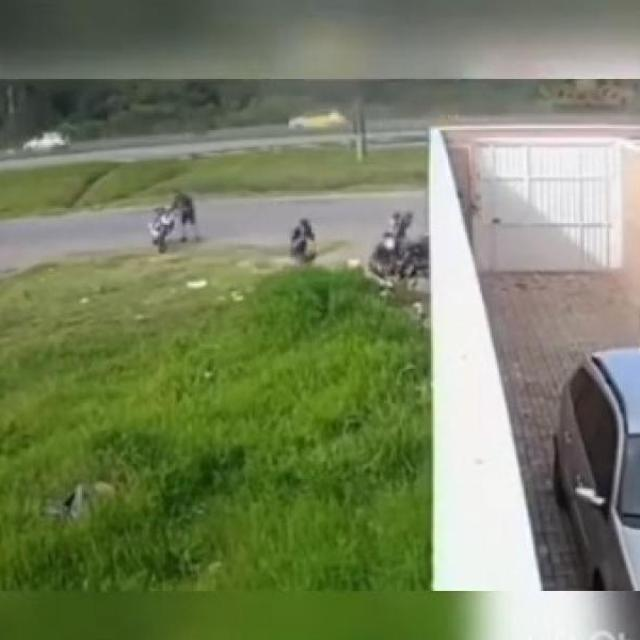accident: (363, 214, 435, 297)
